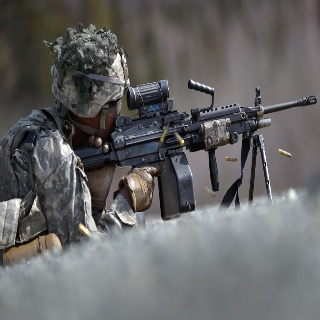rifle: (66, 77, 320, 221)
